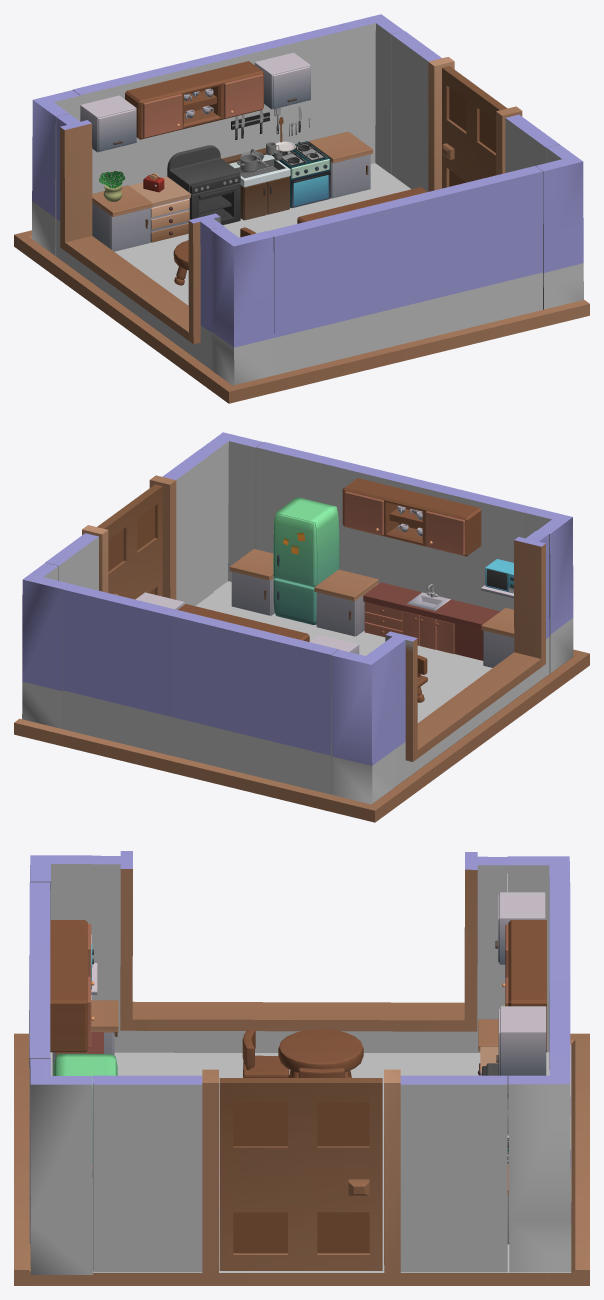
The model's file is COCINA.fbx.
The picture shows the model from 3 angles, top to bottom: view 1: azimuth 30°, elevation 25°; view 2: azimuth 150°, elevation 25°; view 3: azimuth 270°, elevation 25°; orthographic projection. The views are drawn at different scales.
Visible parts, largest first — view 1: paret_basica29, muebles_cocina_4, suelo17, paret_basica28, paret_con_ventana_grande26, muebles_cocina_paret3, paret_puerta52, paret_esquina41, paret_esquina_95, paret_esquina_89, puerta42, paret_esquina38 (+5 smaller); view 2: paret_basica28, paret_basica29, suelo17, paret_con_ventana_grande26, mueble_cocina_5, paret_puerta52, paret_esquina38, mueble_paret_5, nevera3, paret_esquina_89, paret_esquina_95, puerta42 (+3 smaller); view 3: paret_puerta52, puerta42, paret_con_ventana_grande26, suelo17, paret_esquina_95, paret_esquina_89, muebles_cocina_paret3, mueble_paret_5, mesa_con_cadiras3, paret_basica29, paret_basica28, paret_esquina41 (+4 smaller).
Boxes of the visible parts, <box> form: paret_basica29: <box>267,166,542,375</box>; muebles_cocina_4: <box>92,131,372,251</box>; suelo17: <box>14,163,589,403</box>; paret_basica28: <box>73,24,348,193</box>; paret_con_ventana_grande26: <box>56,113,224,369</box>; muebles_cocina_paret3: <box>80,52,310,152</box>; paret_puerta52: <box>391,31,559,191</box>; paret_esquina41: <box>210,226,274,385</box>; paret_esquina_95: <box>536,144,583,309</box>; paret_esquina_89: <box>341,14,404,174</box>; puerta42: <box>442,66,507,188</box>; paret_esquina38: <box>32,90,80,255</box>; paret_basica28: <box>62,584,338,794</box>; paret_basica29: <box>256,442,532,611</box>; suelo17: <box>14,581,589,822</box>; paret_con_ventana_grande26: <box>381,530,549,786</box>; mueble_cocina_5: <box>229,549,514,667</box>; paret_puerta52: <box>45,449,213,605</box>; paret_esquina38: <box>331,644,395,804</box>; mueble_paret_5: <box>342,478,481,556</box>; nevera3: <box>273,497,339,624</box>; paret_esquina_89: <box>22,562,69,728</box>; paret_esquina_95: <box>200,432,263,591</box>; puerta42: <box>97,484,162,599</box>; paret_puerta52: <box>93,1069,507,1274</box>; puerta42: <box>219,1078,382,1270</box>; paret_con_ventana_grande26: <box>91,851,507,1052</box>; suelo17: <box>14,1033,589,1285</box>; paret_esquina_95: <box>30,1058,92,1274</box>; paret_esquina_89: <box>508,1058,571,1272</box>; muebles_cocina_paret3: <box>495,892,546,1078</box>; mueble_paret_5: <box>50,920,94,1052</box>; mesa_con_cadiras3: <box>242,1029,363,1077</box>; paret_basica29: <box>29,882,50,1243</box>; paret_basica28: <box>549,882,570,1057</box>; paret_esquina41: <box>29,855,92,1067</box>.
Size of the model in its own units: 899 by 360 by 918.
